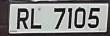0: (74, 5, 87, 32)
1: (65, 6, 74, 32)
5: (87, 5, 101, 33)
7: (53, 6, 67, 32)
L: (28, 5, 46, 32)
R: (14, 5, 31, 32)
